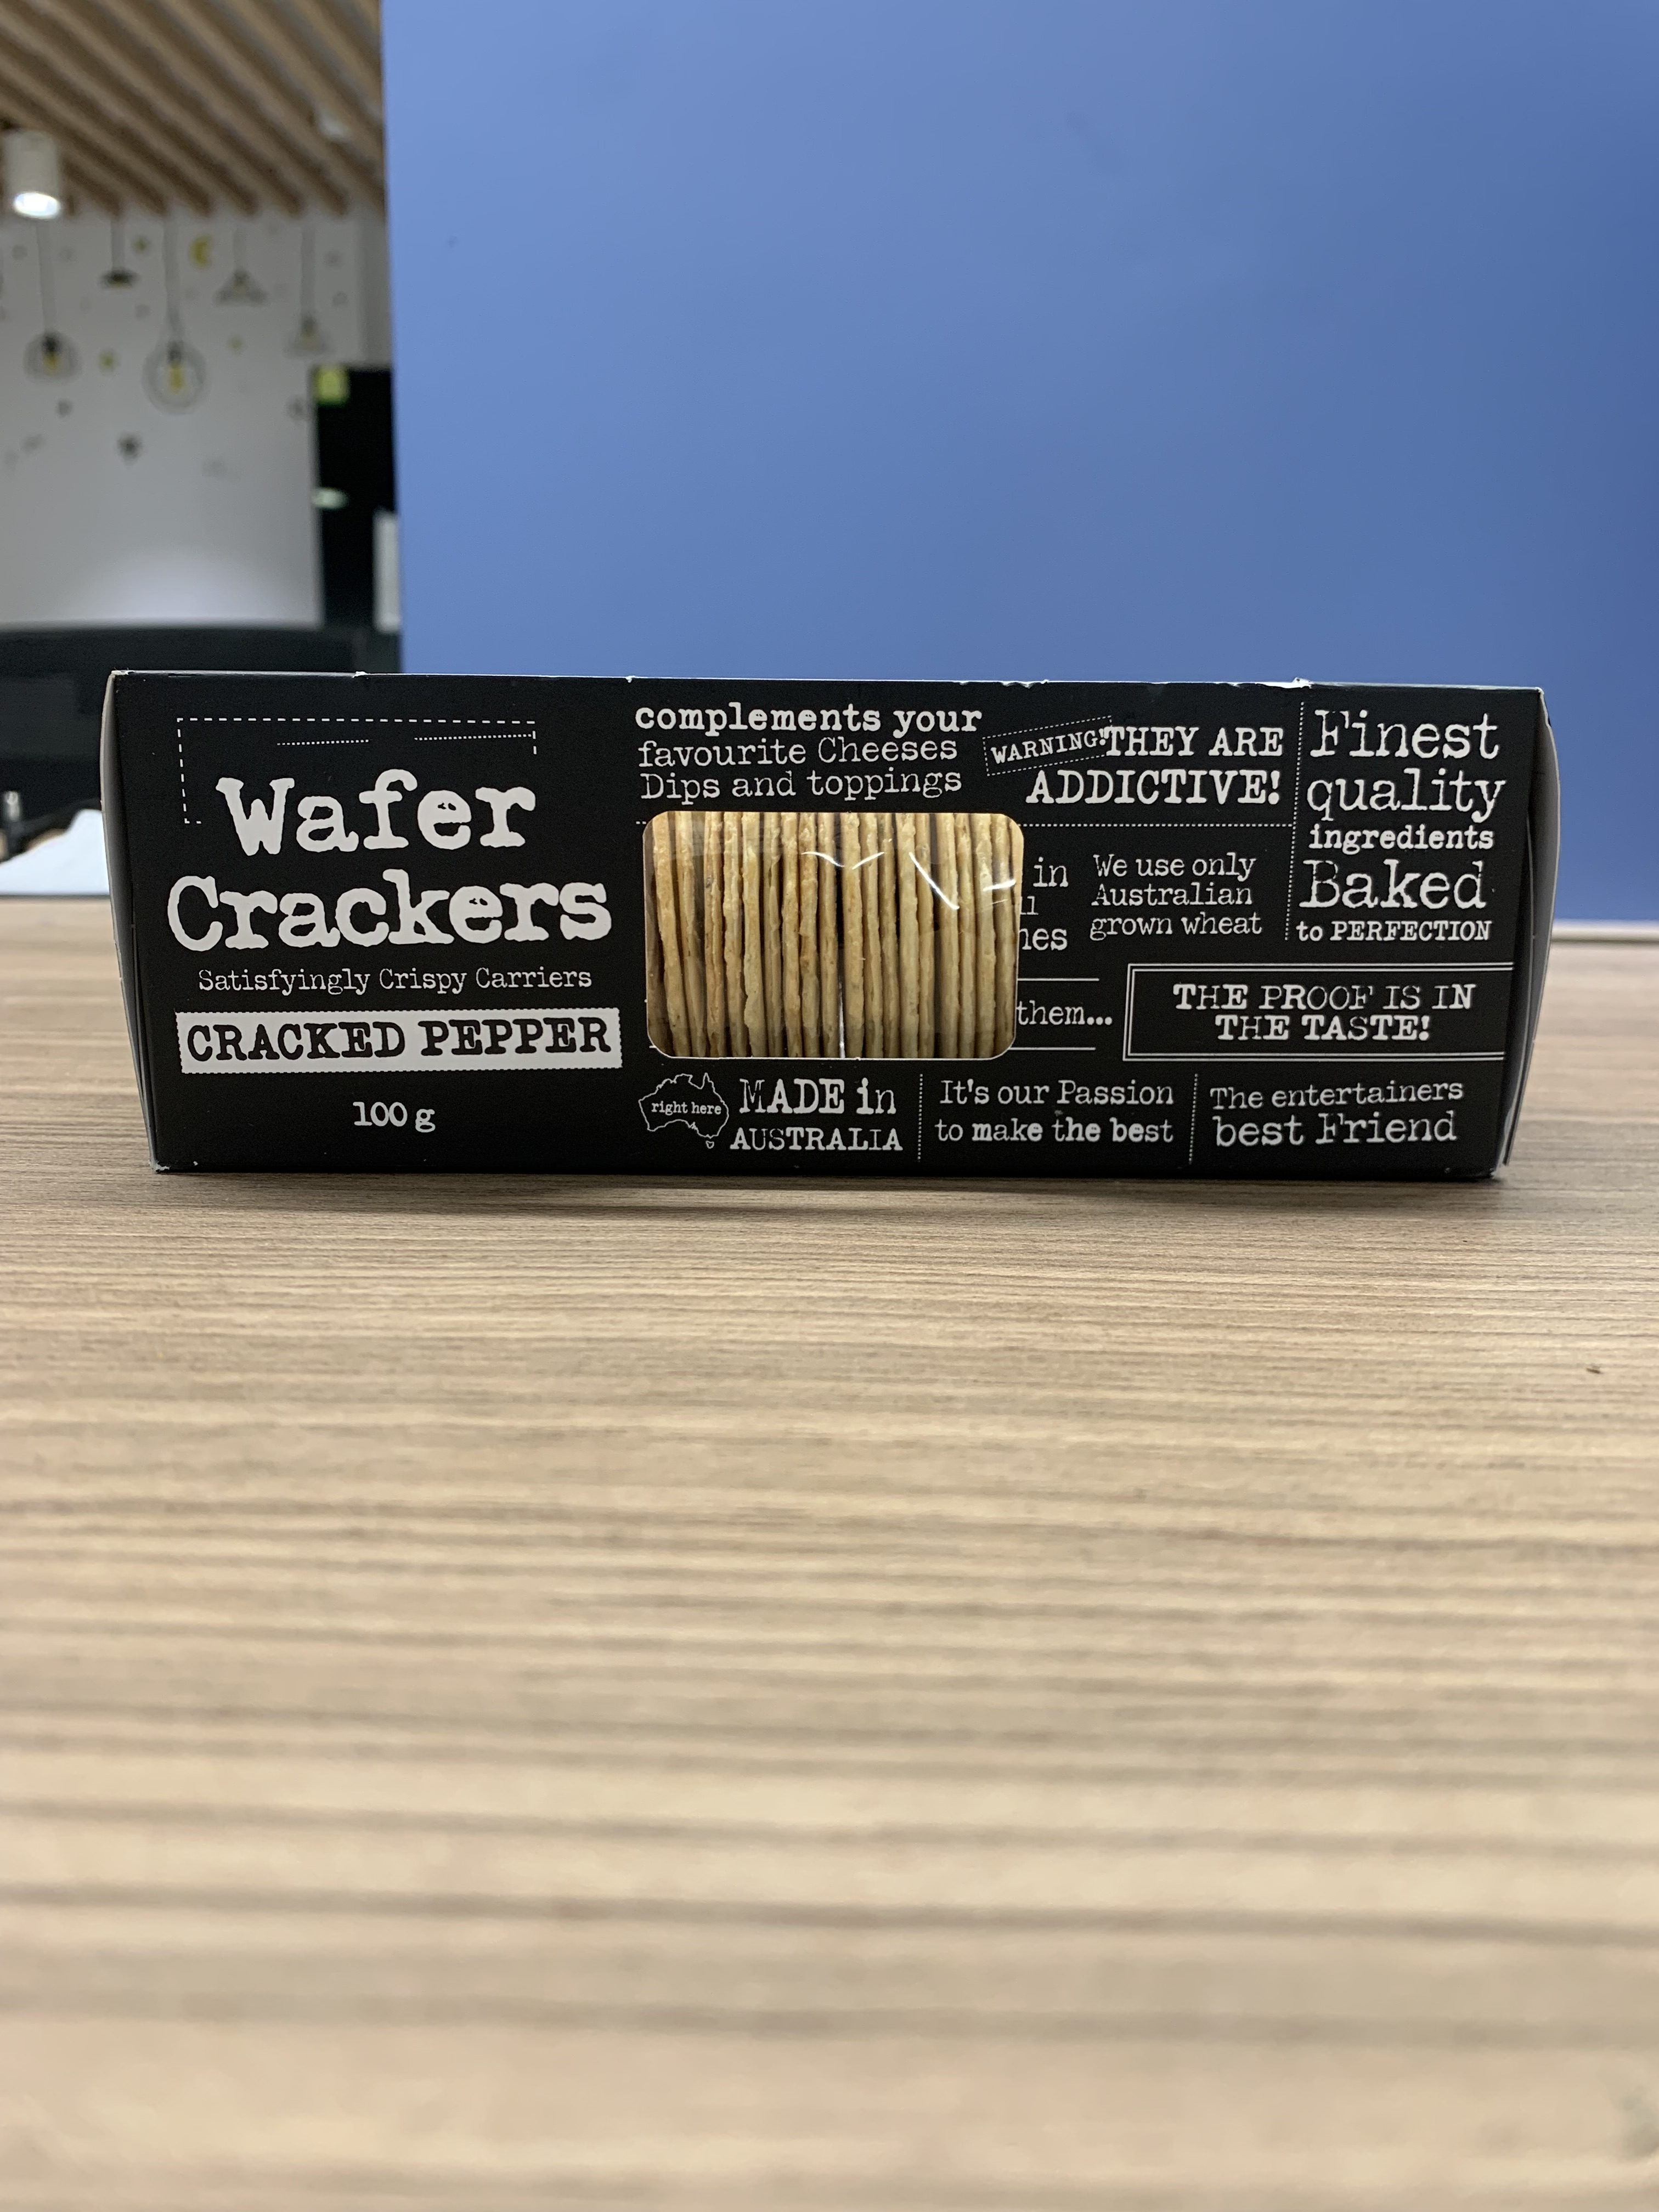crackers_100g-199g: (138, 681, 1490, 1158)
